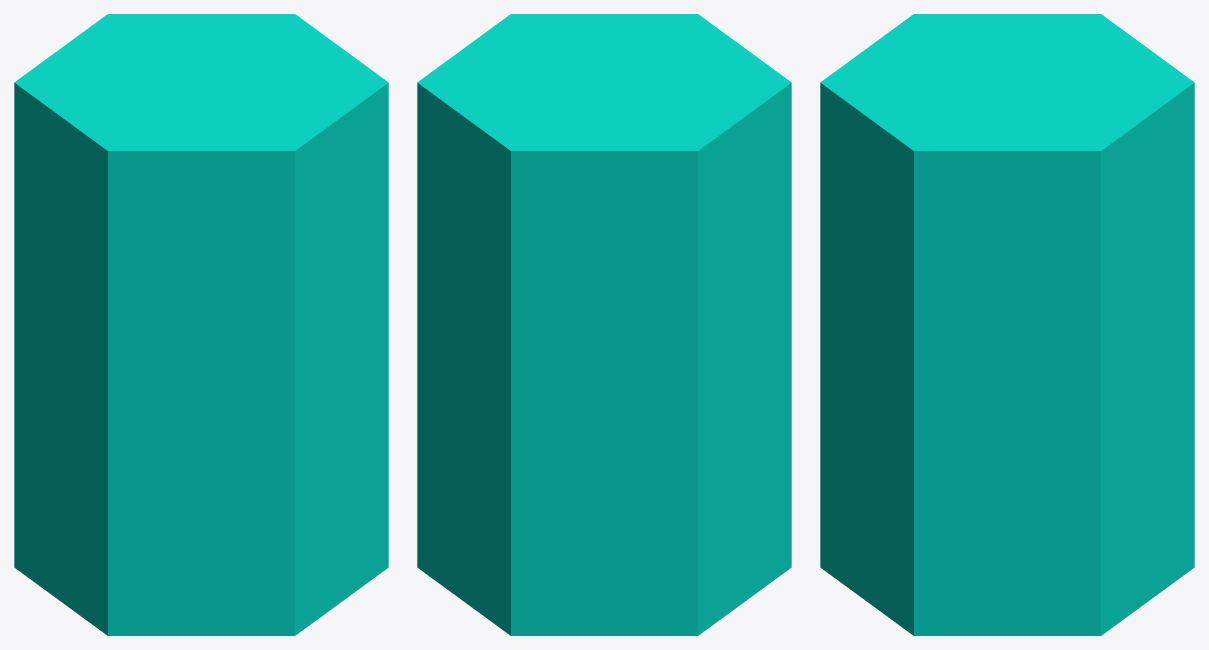
File: brush_arm.dae
3 renders of one model, left to right at view 1: azimuth 30°, elevation 25°; view 2: azimuth 150°, elevation 25°; view 3: azimuth 270°, elevation 25°, orthographic.
Parts seen in each view (by area): view 1: brush_arm; view 2: brush_arm; view 3: brush_arm.
Boxes of the visible parts, x1=… form: brush_arm: x1=14, y1=14, x2=388, y2=635; brush_arm: x1=417, y1=14, x2=791, y2=635; brush_arm: x1=820, y1=14, x2=1194, y2=635.
Size of the model in its own units: 0.0606 by 0.07 by 0.1.
